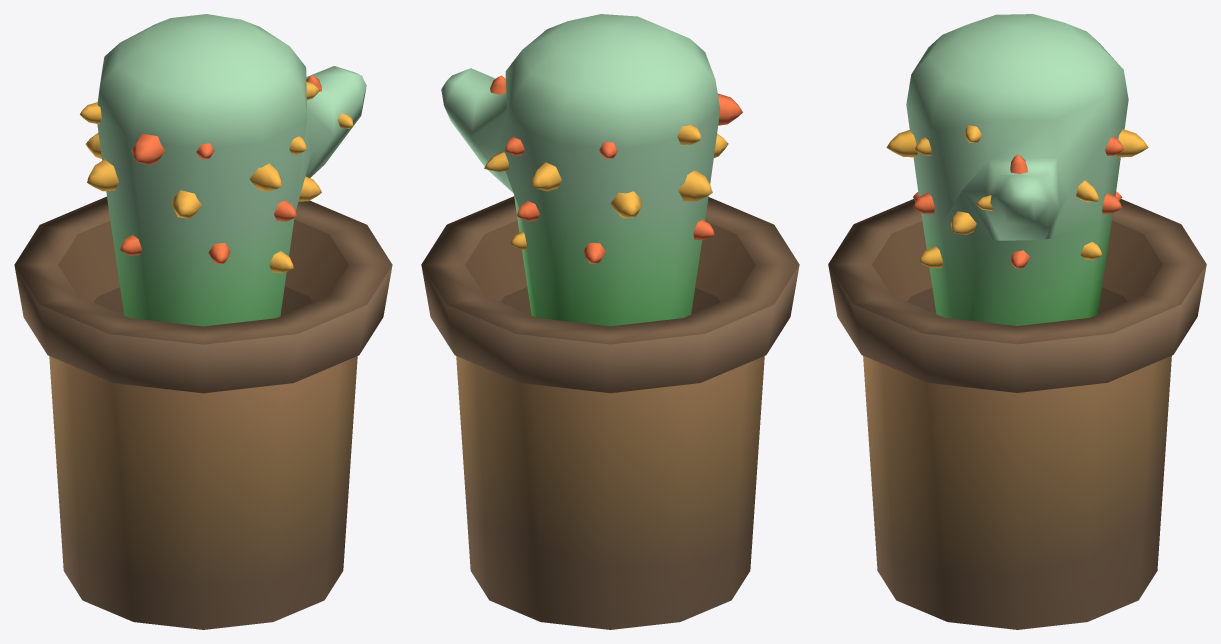
The model's file is CactusMesh_001.fbx.
3 renders of one model, left to right at view 1: azimuth 30°, elevation 25°; view 2: azimuth 150°, elevation 25°; view 3: azimuth 270°, elevation 25°, orthographic.
Parts seen in each view (by area): view 1: Cactus_001; view 2: Cactus_001; view 3: Cactus_001.
Boxes of the visible parts, left/top/right/bottom form: Cactus_001: left=14, top=14, right=392, bottom=629; Cactus_001: left=421, top=14, right=799, bottom=629; Cactus_001: left=828, top=14, right=1206, bottom=629.
Bounding box in the file's own units: 0.0103 × 0.0163 × 0.0103.
